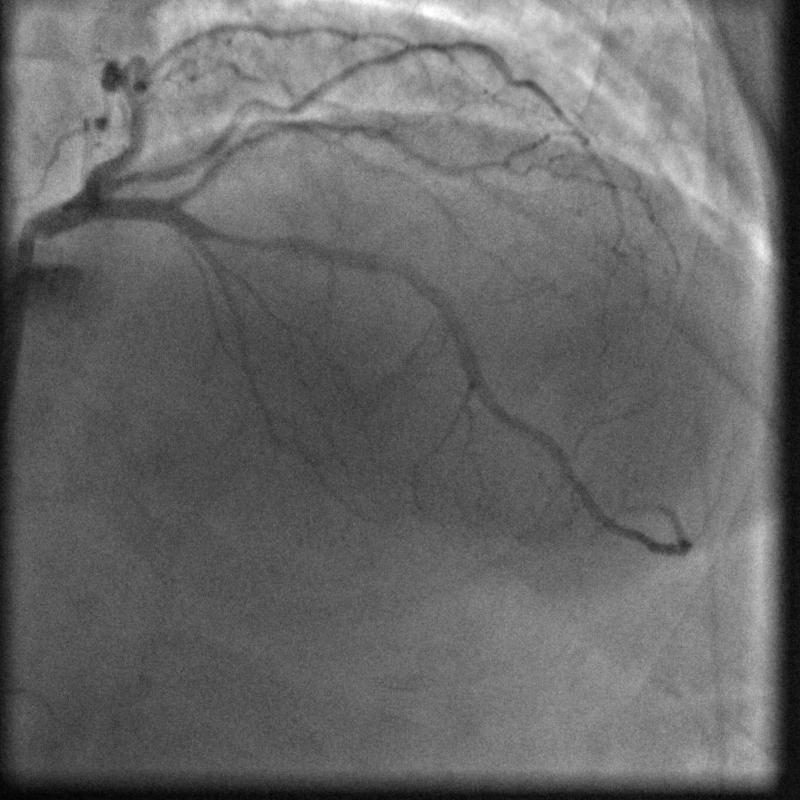Stenosis: (213, 216, 290, 261)
